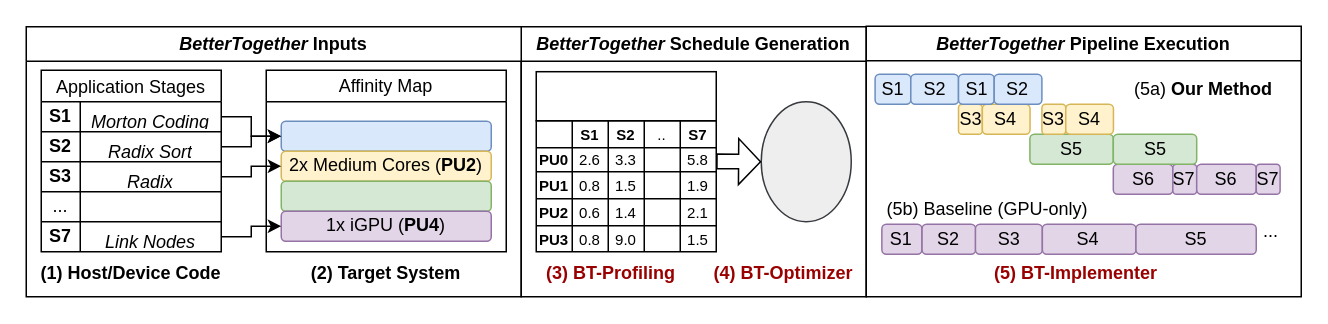
This 1328x324 diagram has some shape labels left out. Each missing label, with the centre of its shape:
"2x Big Cores ( PU3 )" goes at point (385, 195).
"4x Little Cores ( PU1 )" goes at point (385, 135).
"Interference-aware Benchmark" goes at point (625, 95).
"Solver" goes at point (805, 161).
